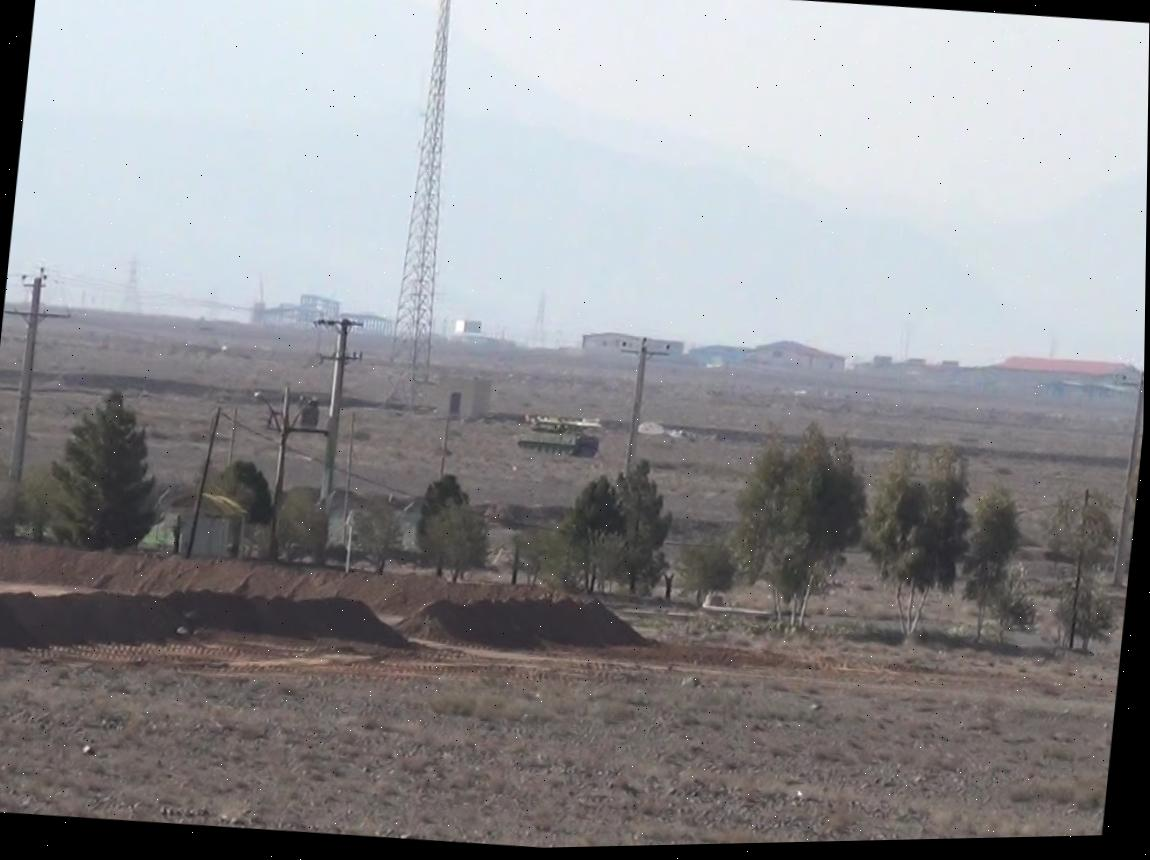armored_car: (514, 411, 605, 464)
